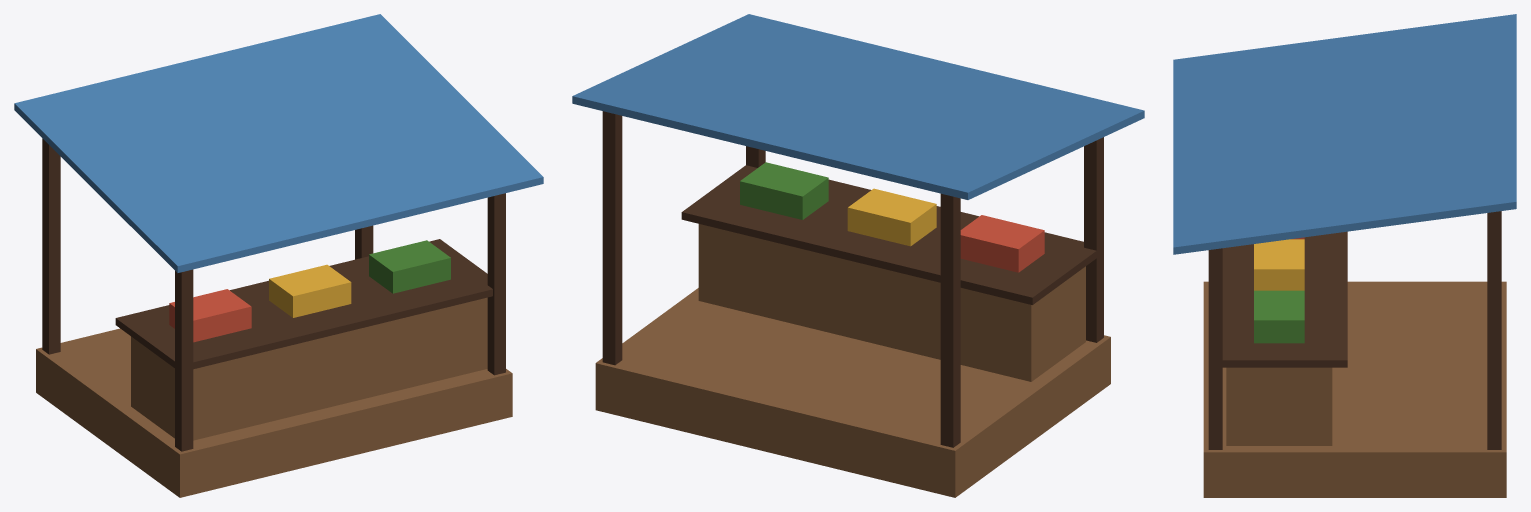
Rendered from stall_b.glb.
3 renders of one model, left to right at view 1: azimuth 30°, elevation 25°; view 2: azimuth 150°, elevation 25°; view 3: azimuth 270°, elevation 25°, orthographic. The views are drawn at different scales.
Parts seen in each view (by area): view 1: stall_b-col; view 2: stall_b-col; view 3: stall_b-col.
Part boxes in pixels (x1=…): stall_b-col: x1=14, y1=14, x2=543, y2=497; stall_b-col: x1=572, y1=14, x2=1144, y2=497; stall_b-col: x1=1173, y1=14, x2=1516, y2=497.
Bounding box in the file's own units: 4.4 × 3.33 × 3.4.
